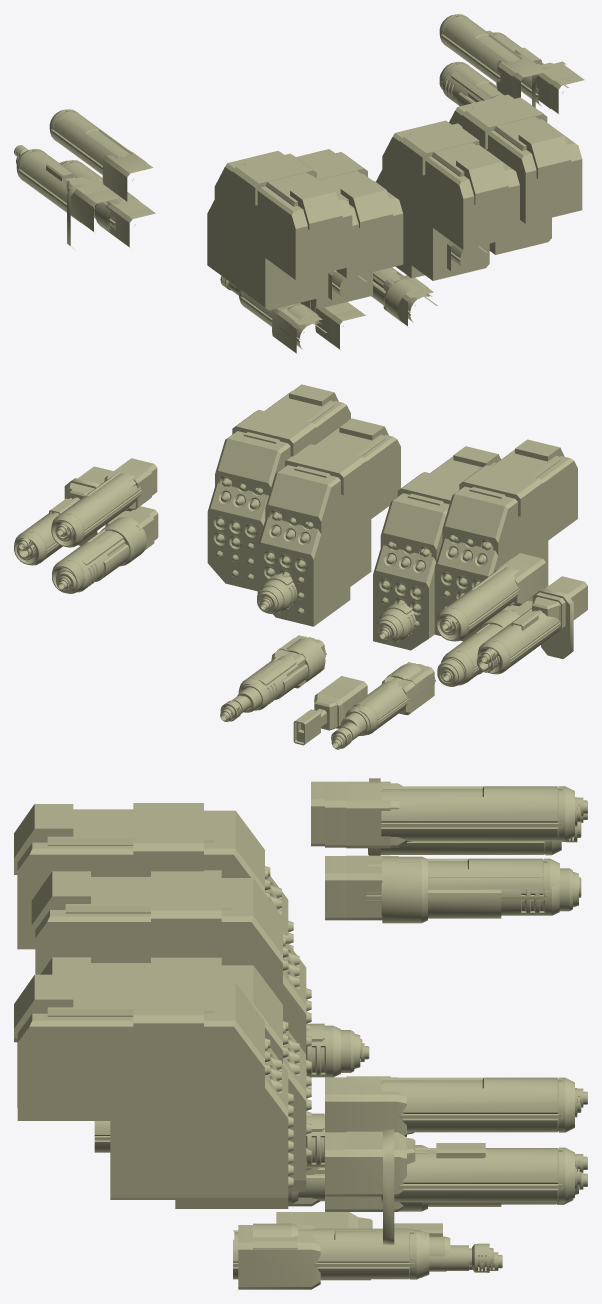
File: BlackjackWeapons.glb
The picture shows the model from 3 angles, top to bottom: view 1: azimuth 30°, elevation 25°; view 2: azimuth 150°, elevation 25°; view 3: azimuth 270°, elevation 25°; orthographic projection. The views are drawn at different scales.
Parts seen in each view (by area): view 1: Torso_Left_MH1_Missile10, Torso_Right_MH2_Missile6, Torso_Right_MH2_Missile10, Torso_Right_MH1_Missile6, Torso_Left_MH1_Missile6, Torso_Left_MH2_Missile6, Torso_Left_MH1_Missile2, Torso_Right_MH2_Missile2, Forearm_Right_EH2_PPC, Forearm_Left_EH2_PPC, Torso_Right_MH1_Missile10, Torso_Left_MH2_Missile10 (+22 smaller); view 2: Torso_Right_MH2_Missile10, Torso_Right_MH2_Missile2, Torso_Left_MH1_Missile10, Torso_Left_MH1_Missile2, Torso_Left_MH2_Missile10, Torso_Right_MH1_Missile10, Torso_Right_MH1_Missile2, Torso_Left_MH2_Missile2, Torso_Right_MH1_Missile15, Forearm_Right_EH2_PPC, Forearm_Left_EH2_PPC, Torso_Right_BH2_AC10 (+31 smaller); view 3: Torso_Right_MH1_Missile10, Torso_Right_MH1_Missile2, Torso_Left_MH2_Missile2, Torso_Left_MH1_Missile2, Forearm_Left_EH2_PPC, Torso_Left_MH2_Missile10, Forearm_Right_EH2_PPC, Forearm_Right_EH3_PPC, Forearm_Left_BH1_AC20, Torso_Left_MH2_Missile6, Torso_Left_MH1_Missile10, Torso_Right_MH1_Missile6 (+27 smaller).
Boxes of the visible parts, x1=… form: Torso_Left_MH1_Missile10: x1=207, y1=153, x2=321, y2=310; Torso_Right_MH2_Missile6: x1=382, y1=120, x2=519, y2=249; Torso_Right_MH2_Missile10: x1=376, y1=123, x2=489, y2=280; Torso_Right_MH1_Missile6: x1=450, y1=96, x2=582, y2=223; Torso_Left_MH1_Missile6: x1=214, y1=151, x2=352, y2=279; Torso_Left_MH2_Missile6: x1=300, y1=150, x2=403, y2=278; Torso_Left_MH1_Missile2: x1=214, y1=151, x2=346, y2=279; Torso_Right_MH2_Missile2: x1=382, y1=121, x2=513, y2=248; Forearm_Right_EH2_PPC: x1=439, y1=14, x2=522, y2=82; Forearm_Left_EH2_PPC: x1=49, y1=109, x2=132, y2=174; Torso_Right_MH1_Missile10: x1=466, y1=99, x2=551, y2=254; Torso_Left_MH2_Missile10: x1=301, y1=152, x2=372, y2=308; Torso_Right_MH2_Missile10: x1=257, y1=444, x2=371, y2=626; Torso_Right_MH2_Missile2: x1=265, y1=418, x2=400, y2=533; Torso_Left_MH1_Missile10: x1=434, y1=465, x2=548, y2=635; Torso_Left_MH1_Missile2: x1=442, y1=444, x2=577, y2=554; Torso_Left_MH2_Missile10: x1=373, y1=472, x2=462, y2=650; Torso_Right_MH1_Missile10: x1=207, y1=410, x2=315, y2=591; Torso_Right_MH1_Missile2: x1=215, y1=384, x2=350, y2=495; Torso_Left_MH2_Missile2: x1=380, y1=446, x2=499, y2=561; Torso_Right_MH1_Missile15: x1=207, y1=410, x2=320, y2=580; Forearm_Right_EH2_PPC: x1=51, y1=472, x2=141, y2=547; Forearm_Left_EH2_PPC: x1=436, y1=566, x2=520, y2=641; Torso_Right_BH2_AC10: x1=237, y1=638, x2=325, y2=712; Torso_Right_MH1_Missile10: x1=110, y1=975, x2=293, y2=1208; Torso_Right_MH1_Missile2: x1=14, y1=974, x2=270, y2=1120; Torso_Left_MH2_Missile2: x1=31, y1=871, x2=288, y2=1004; Torso_Left_MH1_Missile2: x1=14, y1=804, x2=270, y2=949; Forearm_Left_EH2_PPC: x1=381, y1=786, x2=574, y2=841; Torso_Left_MH2_Missile10: x1=128, y1=870, x2=311, y2=1054; Forearm_Right_EH2_PPC: x1=381, y1=1077, x2=574, y2=1132; Forearm_Right_EH3_PPC: x1=381, y1=1147, x2=574, y2=1202; Forearm_Left_BH1_AC20: x1=382, y1=856, x2=572, y2=923; Torso_Left_MH2_Missile6: x1=31, y1=871, x2=283, y2=1003; Torso_Left_MH1_Missile10: x1=111, y1=803, x2=293, y2=949; Torso_Right_MH1_Missile6: x1=14, y1=974, x2=270, y2=1120.
Size of the model in its own units: 1.54 by 0.6916 by 0.9832.
